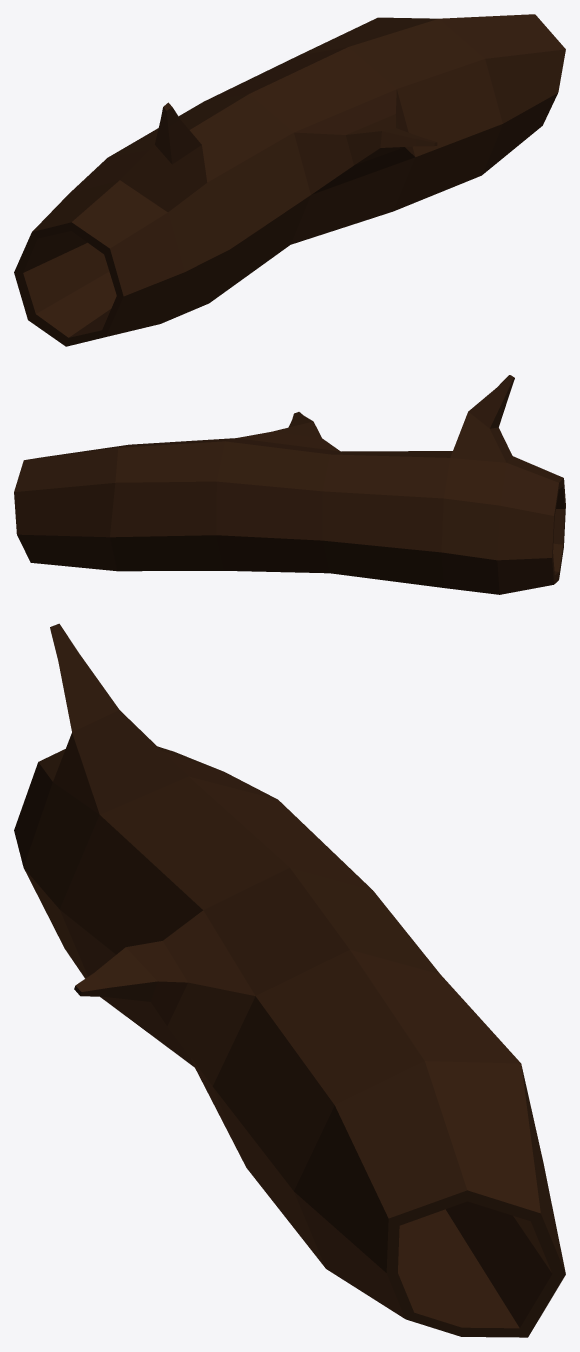
File: logA.fbx
3 renders of one model, top to bottom at view 1: azimuth 30°, elevation 25°; view 2: azimuth 150°, elevation 25°; view 3: azimuth 270°, elevation 25°, orthographic. The views are drawn at different scales.
Parts seen in each view (by area): view 1: Cylinder.004; view 2: Cylinder.004; view 3: Cylinder.004.
Part boxes in pixels (box(x1,y1,x2,y2)): Cylinder.004: box(14, 14, 565, 346); Cylinder.004: box(14, 375, 565, 594); Cylinder.004: box(14, 623, 565, 1337).
Size of the model in its own units: 21634 by 8823 by 11320.
